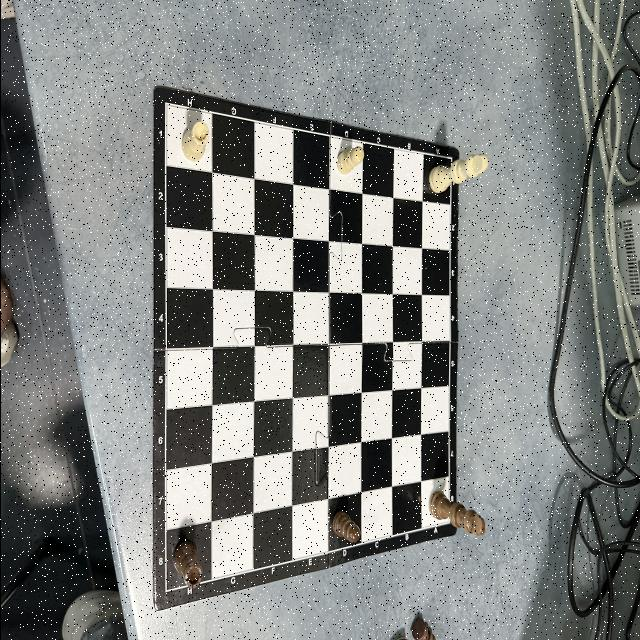Black-King: (428, 491, 486, 537)
Black-Pawn: (331, 510, 360, 544)
Black-Rook: (172, 541, 202, 589)
White-King: (428, 153, 488, 195)
White-Pawn: (336, 146, 364, 175)
White-Rook: (180, 120, 208, 162)
